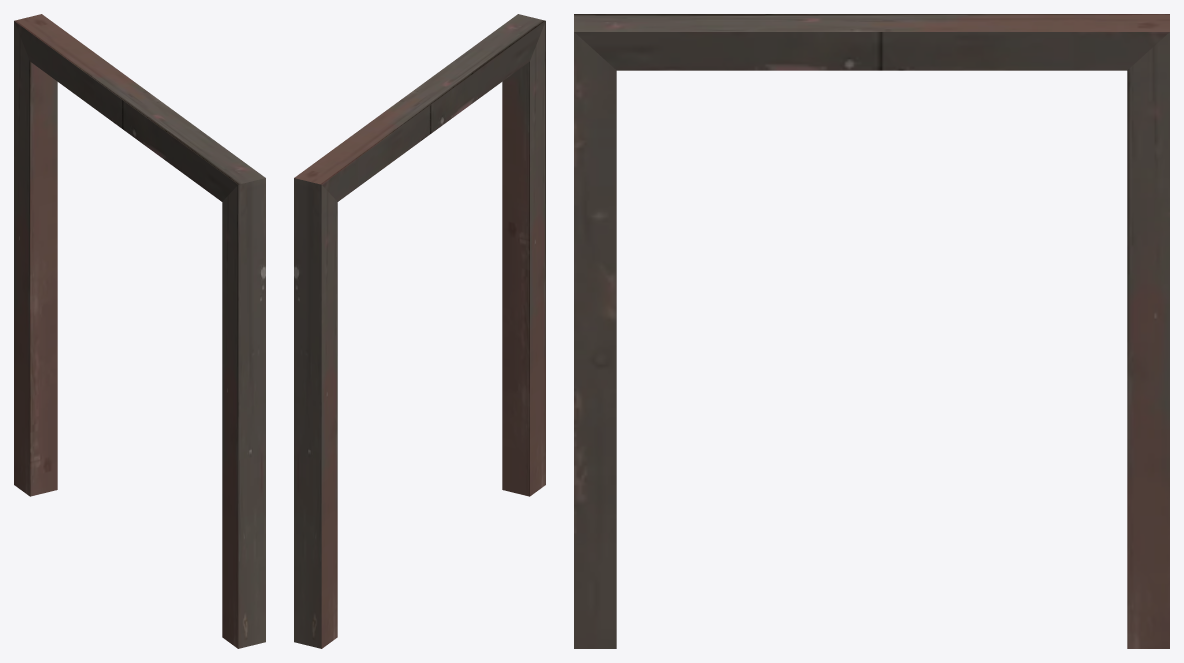
3 views of the same model, side by side, from view 1: azimuth 30°, elevation 25°; view 2: azimuth 150°, elevation 25°; view 3: azimuth 270°, elevation 25° (orthographic). The views are drawn at different scales.
Visible parts, largest first — view 1: body0_model0_lod0_mesh0; view 2: body0_model0_lod0_mesh0; view 3: body0_model0_lod0_mesh0.
Part boxes in pixels (box(x1,y1,x2,y2)): body0_model0_lod0_mesh0: box(14, 14, 265, 648); body0_model0_lod0_mesh0: box(294, 14, 545, 648); body0_model0_lod0_mesh0: box(574, 14, 1169, 648).
Size of the model in its own units: 8 by 128 by 112.
Materials: 1 (1 with a texture image).
